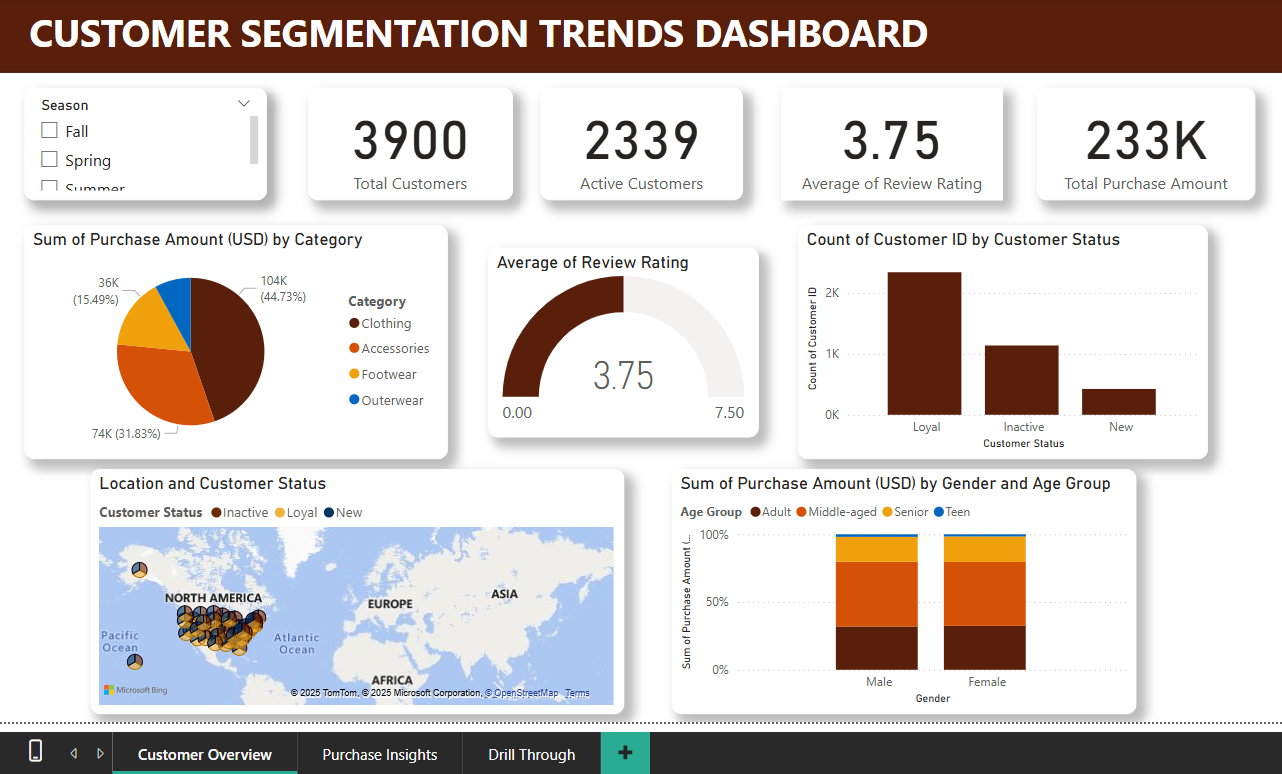

The page's visual inventory and layout, read from the dashboard file:
{"tool":"powerbi","page":{"name":"Customer Overview","canvas":[1280,720],"ordinal":0},"visuals":[{"type":"shape","box":[0,0,1280,73.4],"z":0},{"type":"textbox","box":[26.1,2.7,994.9,70],"z":1000},{"type":"pieChart","fields":{"Y":["Sum(shopping_trends_updated.Purchase Amount (USD))"],"Category":["shopping_trends_updated.Category"]},"box":[26.1,225.2,421.7,232.6],"z":2000},{"type":"card","fields":{"Values":["CountNonNull(shopping_trends_updated.Customer ID)"]},"box":[308.5,88.3,204,112],"z":4000},{"type":"card","fields":{"Values":["shopping_trends_updated.Active Customers"]},"box":[539.9,88.3,201.5,112],"z":5000},{"type":"card","fields":{"Values":["Avg(shopping_trends_updated.Review Rating)"]},"box":[780,88.3,220.2,112],"z":6000},{"type":"card","fields":{"Values":["Sum(shopping_trends_updated.Purchase Amount (USD))"]},"box":[1033.7,88.3,217.7,112],"z":7000},{"type":"slicer","fields":{"Values":["shopping_trends_updated.Season"]},"box":[26.1,88.3,241.3,112],"z":8000},{"type":"columnChart","fields":{"Category":["shopping_trends_updated.Customer Status"],"Y":["CountNonNull(shopping_trends_updated.Customer ID)"]},"box":[796.1,225.2,408,232.6],"z":9000},{"type":"hundredPercentStackedColumnChart","fields":{"Series":["shopping_trends_updated.Age Group"],"Category":["shopping_trends_updated.Gender"],"Y":["Sum(shopping_trends_updated.Purchase Amount (USD))"]},"box":[670.5,467.7,462.8,243.8],"z":10000},{"type":"gauge","fields":{"Y":["Avg(shopping_trends_updated.Review Rating)"]},"box":[487.6,247.5,269.9,189.1],"z":10001},{"type":"map","fields":{"Category":["shopping_trends_updated.Location"],"Series":["shopping_trends_updated.Customer Status"]},"box":[92.1,467.7,531.2,243.8],"z":10002}]}

Visuals, with their boxes on the page's 1280x720 design canvas (x1, y1, x2, y2). These are canvas units, not pixel positions in the 1282x774 screenshot, which may show the page scaled, cropped or inside an application window:
shape: region(0, 0, 1280, 73)
textbox: region(26, 3, 1021, 73)
pieChart - Sum(shopping_trends_updated.Purchase Amount (USD)) x shopping_trends_updated.Category: region(26, 225, 448, 458)
card - CountNonNull(shopping_trends_updated.Customer ID): region(308, 88, 512, 200)
card - shopping_trends_updated.Active Customers: region(540, 88, 741, 200)
card - Avg(shopping_trends_updated.Review Rating): region(780, 88, 1000, 200)
card - Sum(shopping_trends_updated.Purchase Amount (USD)): region(1034, 88, 1251, 200)
slicer - shopping_trends_updated.Season: region(26, 88, 267, 200)
columnChart - shopping_trends_updated.Customer Status x CountNonNull(shopping_trends_updated.Customer ID): region(796, 225, 1204, 458)
hundredPercentStackedColumnChart - shopping_trends_updated.Age Group x shopping_trends_updated.Gender: region(670, 468, 1133, 712)
gauge - Avg(shopping_trends_updated.Review Rating): region(488, 248, 758, 437)
map - shopping_trends_updated.Location x shopping_trends_updated.Customer Status: region(92, 468, 623, 712)
